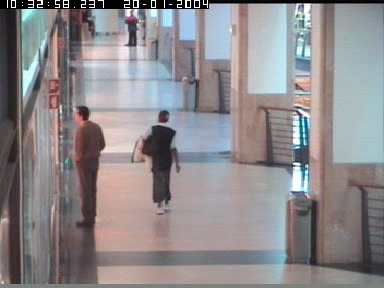person: (131, 109, 180, 215), (72, 105, 105, 227), (124, 10, 139, 46)
